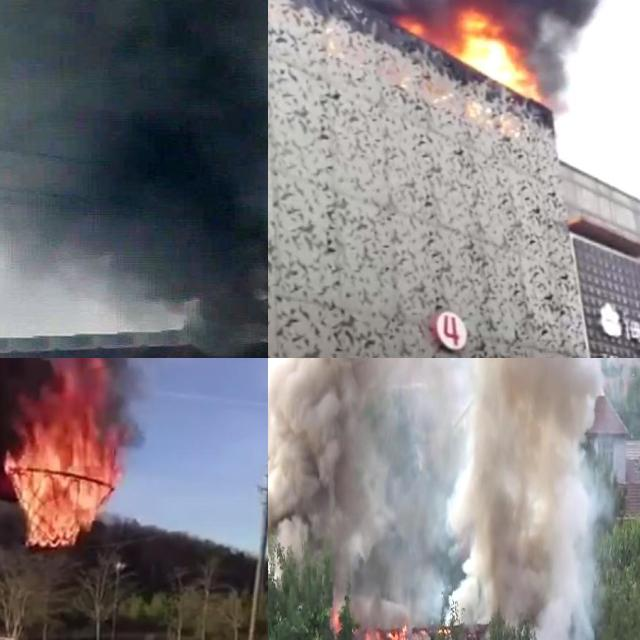fire: (2, 358, 130, 548), (450, 14, 544, 99), (361, 619, 447, 640), (329, 602, 343, 634)
smoke: (268, 358, 605, 610), (5, 0, 268, 309), (451, 358, 604, 640)
